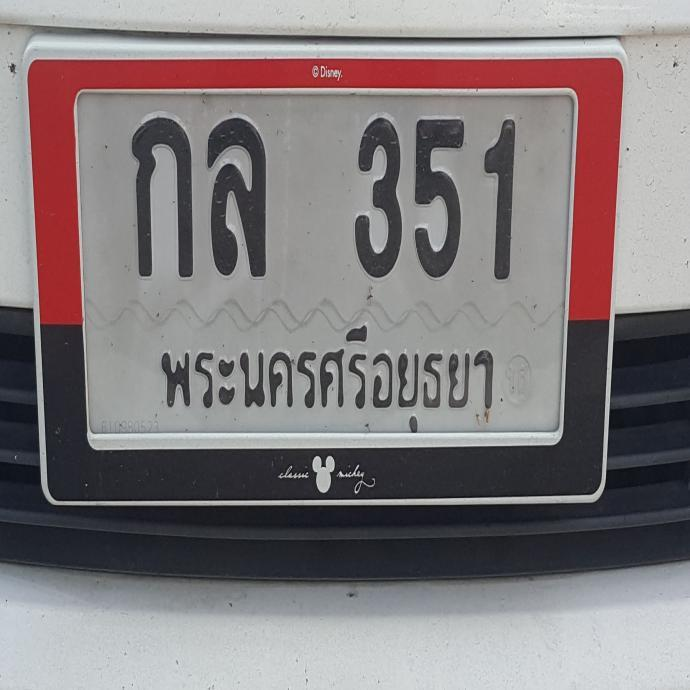1: (477, 115, 516, 281)
3: (347, 114, 405, 280)
5: (407, 114, 463, 280)
A01: (123, 111, 192, 277)
A36: (201, 112, 268, 276)
AYA: (147, 304, 506, 443)
